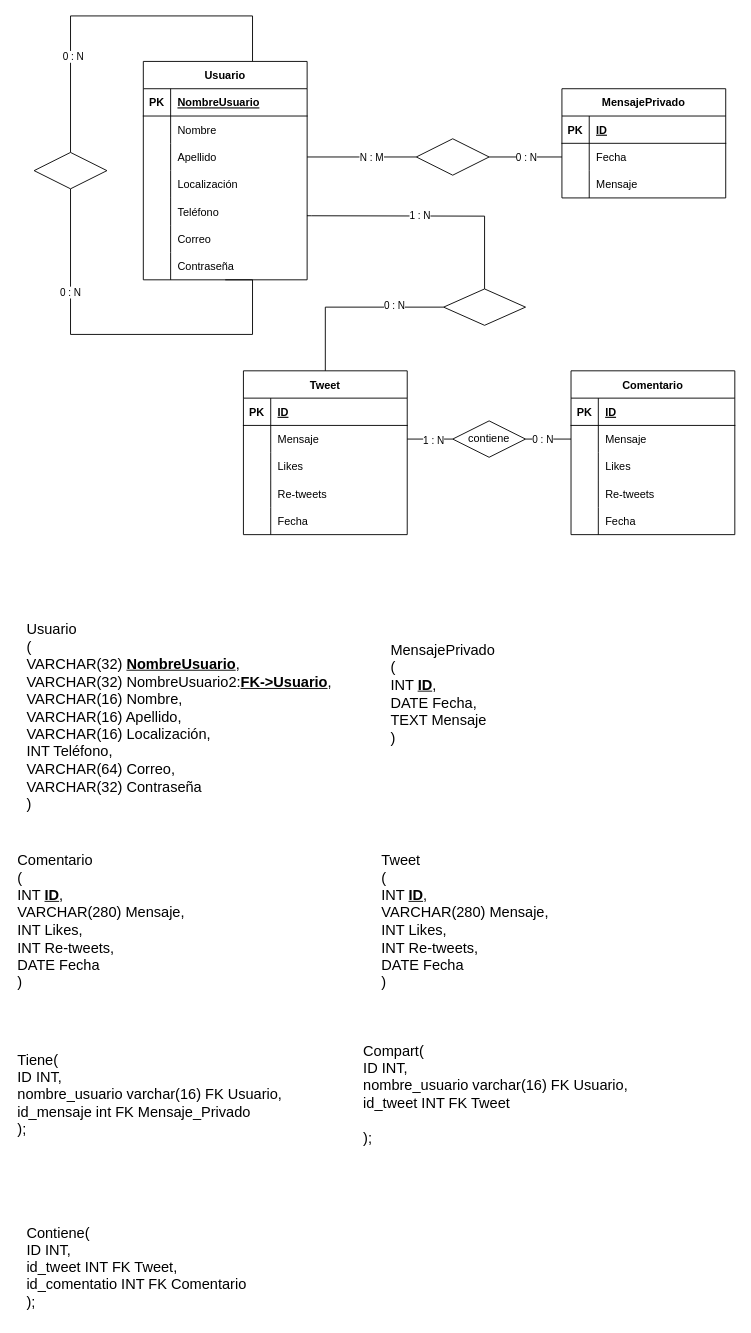
Some shapes in this 751 by 1333 pixel diagram are drawn without their labels. The centre of each missing label's shape, as x and y in pixels:
comparte: pixel 484 306
sigue: pixel 70 170
tiene: pixel 452 156
